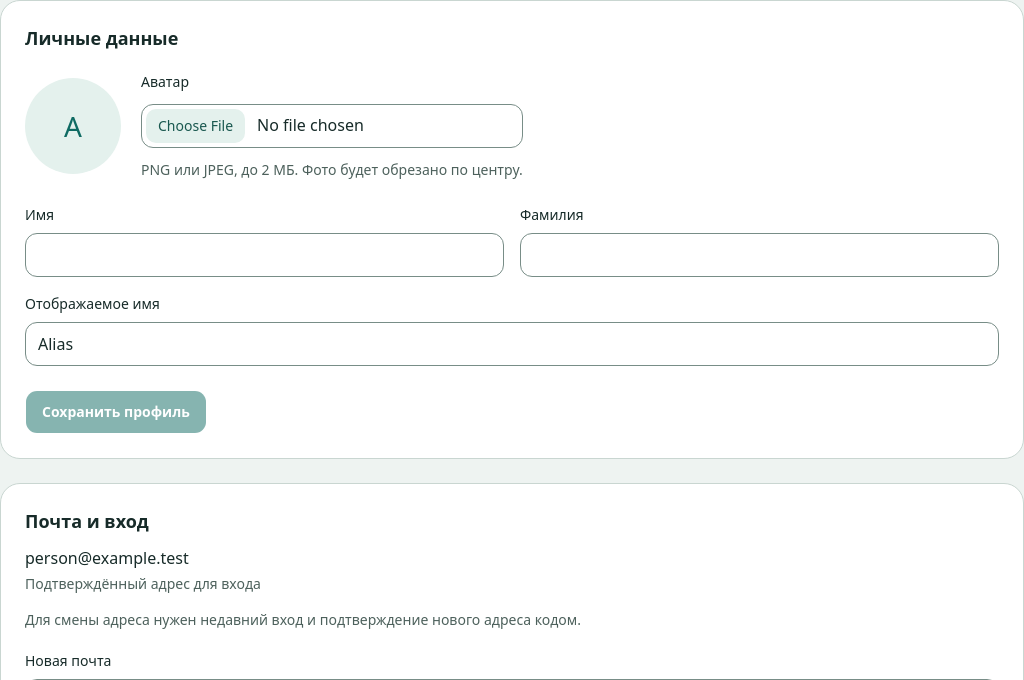
Test: personal profile › SPEC-0036: confirms inside the personal card, saves once and updates the session without /me
Expected: the button "Сохранить профиль" is disabled, left=25, top=390, right=207, bottom=434
Replace the text in the field labelled "Отображаемое имя" with "Number One" at [512, 344], box left=25, top=322, right=999, bottom=366
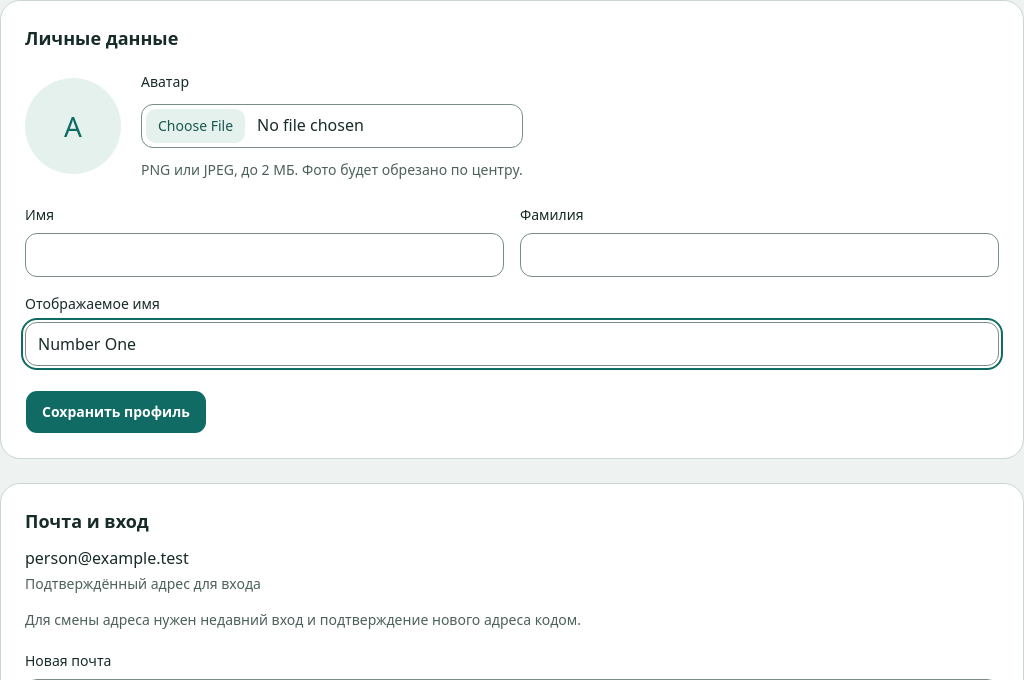
Double-click the button "Сохранить профиль" at [116, 412], box left=25, top=390, right=207, bottom=434
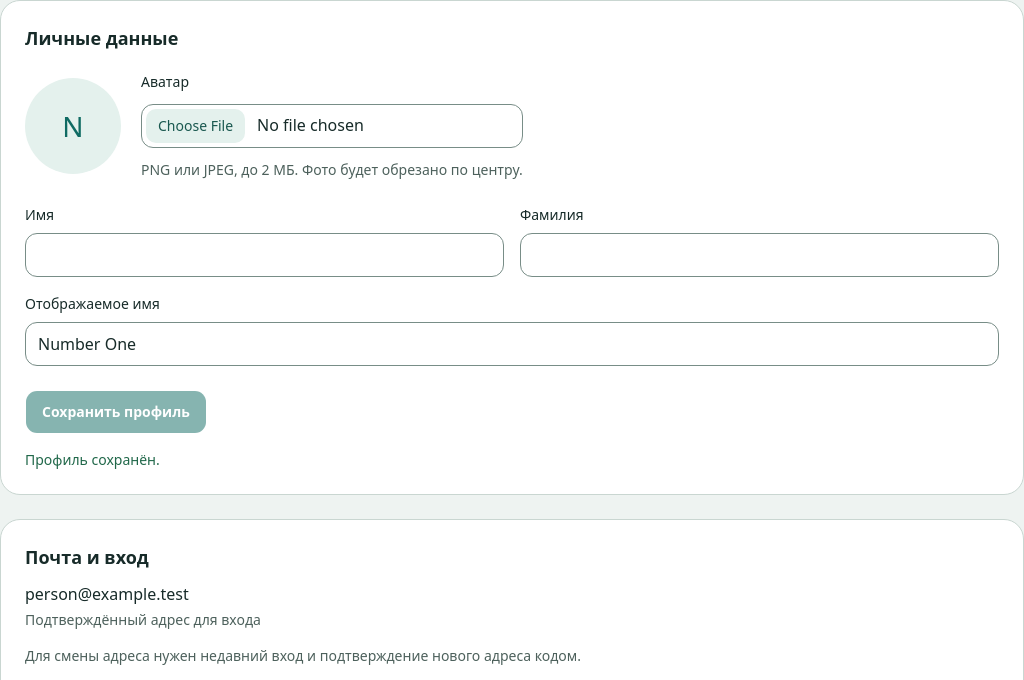
Expected: the element that starts with "Личные данные" is shown, left=25, top=26, right=178, bottom=50
Expected: the message shows "Профиль сохранён", left=25, top=450, right=160, bottom=469
Expected: the button "Сохранить профиль" is disabled, left=25, top=390, right=207, bottom=434
